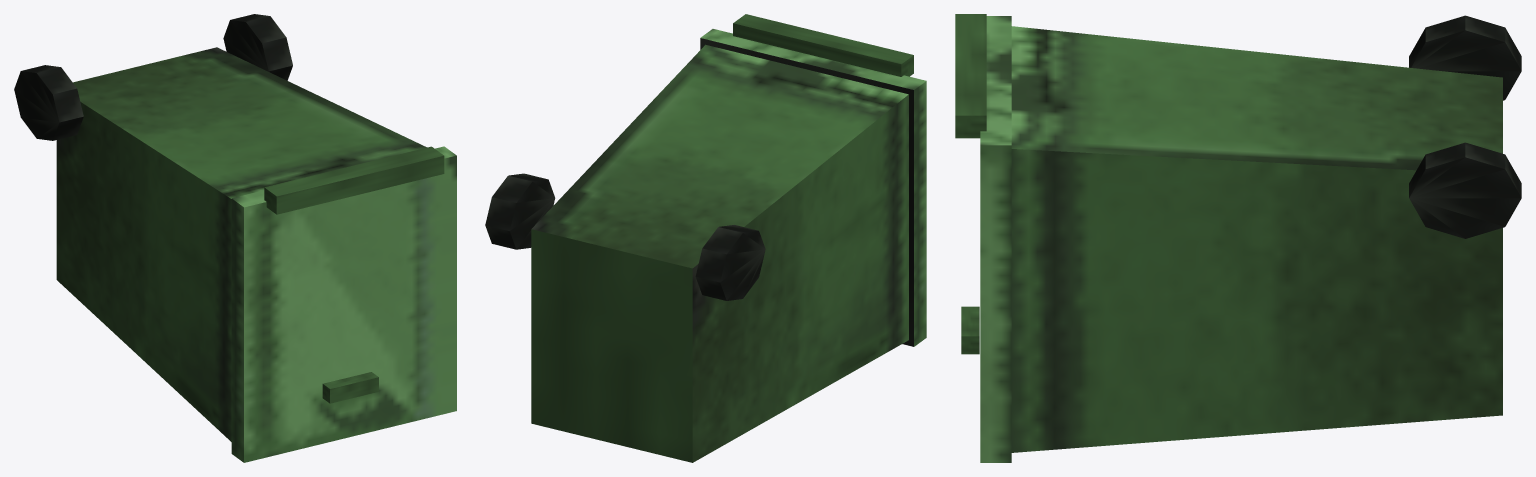
Rendered from pz_g020_trashcontainers_01_wheelie_bin.obj.
The picture shows the model from 3 angles, left to right: view 1: azimuth 30°, elevation 25°; view 2: azimuth 150°, elevation 25°; view 3: azimuth 270°, elevation 25°; orthographic projection. The views are drawn at different scales.
Visible parts, largest first — view 1: tapered_bin_side, bin_lid_top, wheel_side, wheel_cap1, bin_lid_right, rear_handle_top, rear_handle_front, lid_grip_top, bin_lid_front; view 2: tapered_bin_side, bin_bottom, wheel_cap1, wheel_side, bin_lid_right, bin_lid_bottom, bin_lid_front, rear_handle_bottom, rear_handle_front; view 3: tapered_bin_side, wheel_cap0, bin_lid_left, wheel_side, bin_lid_front, rear_handle_front, rear_handle_left, lid_grip_front.
Boxes of the visible parts, x1=… form: tapered_bin_side: x1=56, y1=47, x2=426, y2=441; bin_lid_top: x1=244, y1=155, x2=456, y2=462; wheel_side: x1=22, y1=14, x2=292, y2=140; wheel_cap1: x1=14, y1=20, x2=268, y2=140; bin_lid_right: x1=231, y1=199, x2=243, y2=462; rear_handle_top: x1=276, y1=156, x2=444, y2=214; rear_handle_front: x1=264, y1=146, x2=443, y2=196; lid_grip_top: x1=330, y1=377, x2=378, y2=403; bin_lid_front: x1=232, y1=146, x2=456, y2=207; tapered_bin_side: x1=531, y1=44, x2=908, y2=462; bin_bottom: x1=531, y1=229, x2=692, y2=462; wheel_cap1: x1=510, y1=179, x2=765, y2=300; wheel_side: x1=485, y1=173, x2=758, y2=300; bin_lid_right: x1=914, y1=81, x2=926, y2=346; bin_lid_bottom: x1=700, y1=38, x2=913, y2=346; bin_lid_front: x1=700, y1=29, x2=926, y2=89; rear_handle_bottom: x1=733, y1=23, x2=901, y2=76; rear_handle_front: x1=733, y1=14, x2=913, y2=64; tapered_bin_side: x1=1011, y1=26, x2=1502, y2=452; wheel_cap0: x1=1409, y1=30, x2=1521, y2=238; bin_lid_left: x1=980, y1=145, x2=1011, y2=462; wheel_side: x1=1409, y1=15, x2=1521, y2=197; bin_lid_front: x1=980, y1=16, x2=1011, y2=145; rear_handle_front: x1=955, y1=14, x2=986, y2=115; rear_handle_left: x1=955, y1=115, x2=986, y2=138; lid_grip_front: x1=961, y1=306, x2=979, y2=336.
Bounding box in the file's own units: 0.536 × 0.588 × 0.905.
Materials: 1 (1 with a texture image).
